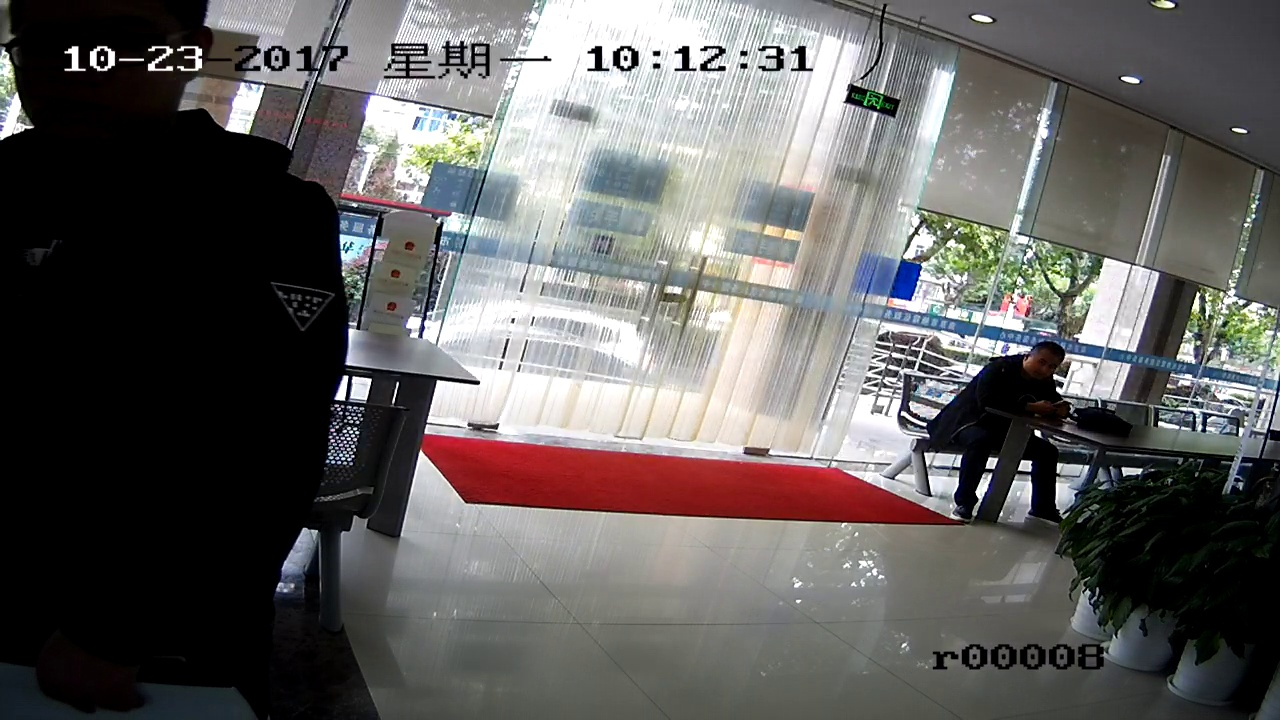chair: (895, 378, 938, 504)
person: (8, 9, 300, 285), (956, 345, 1076, 531)
pot: (1083, 472, 1165, 671), (1185, 496, 1261, 708)
